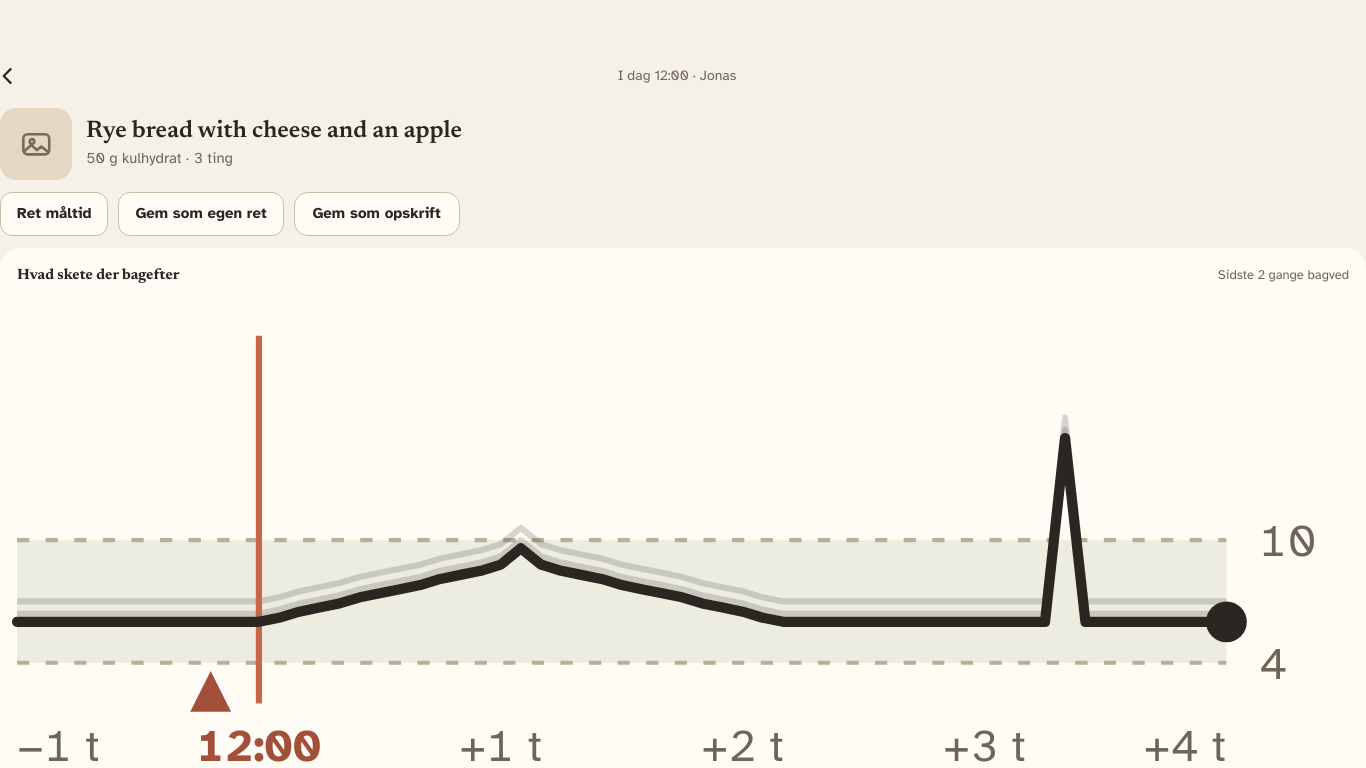
Scenario: edit and delete inside meal detail › retries reading a saved edit without writing it twice
The width and height of the screenshot is (1366, 768).
Click the button "Ret måltid". click: [54, 214]
box: [0,192,108,236]
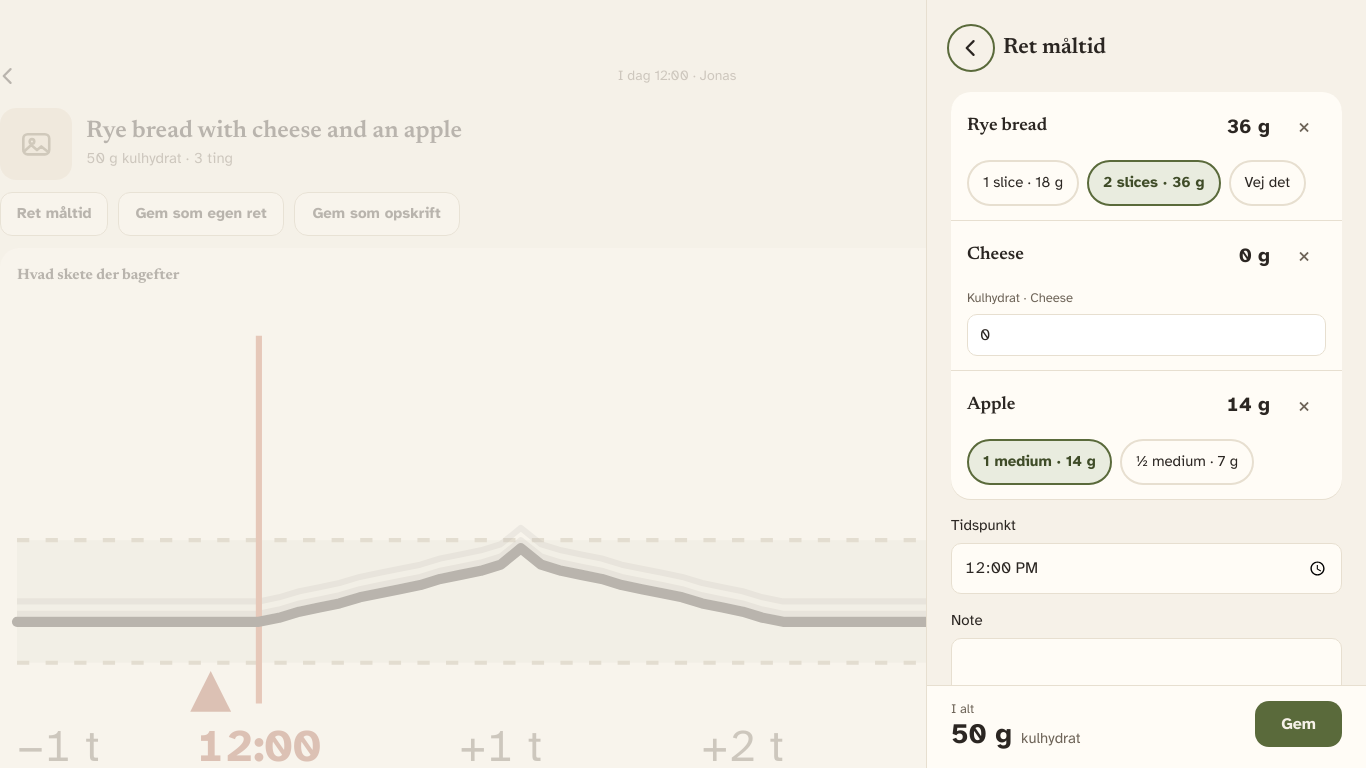
Click the button "Gem". click: [1299, 724]
box: [1255,701,1342,747]
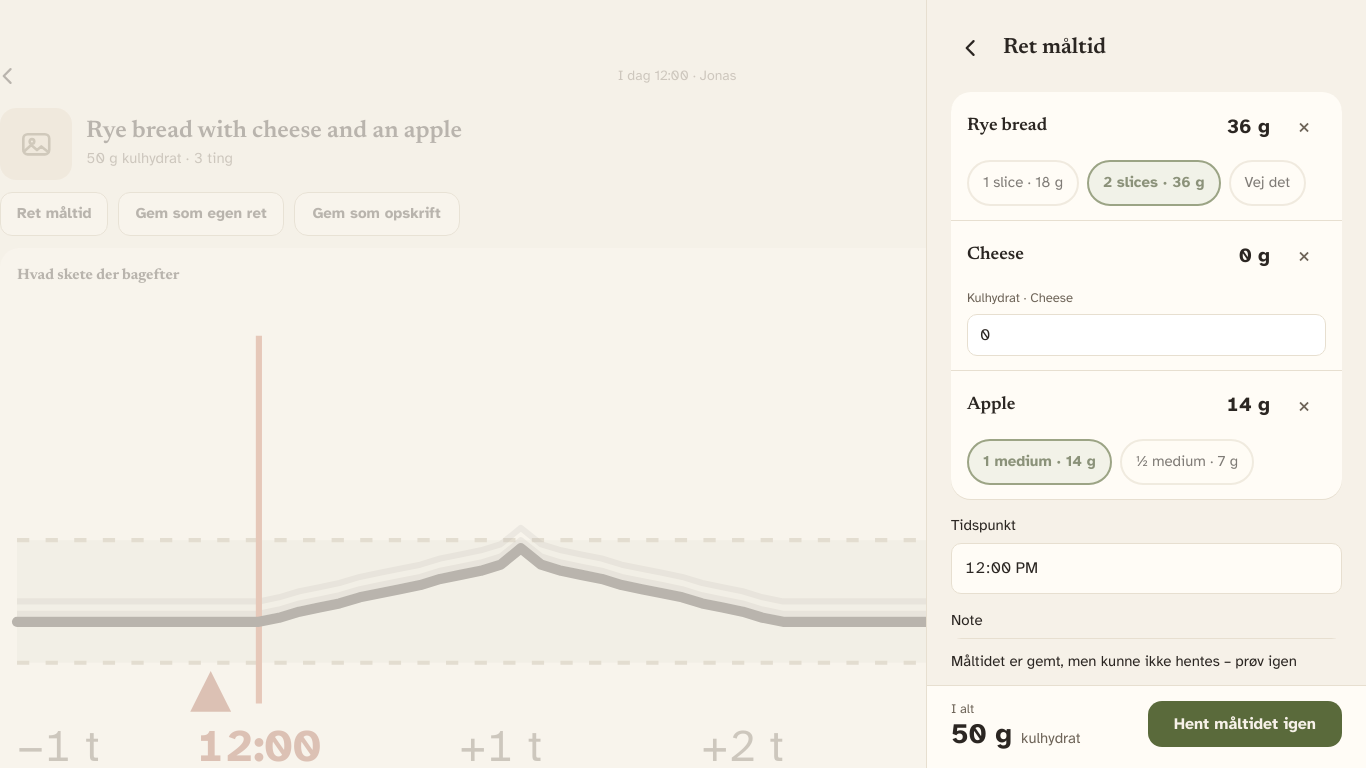
Result: the message reads "Måltidet er gemt, men kunne ikke hentes – prøv igen" at [951,652,1297,670]
Click the button "Hent måltidet igen". click: [1245, 724]
box: [1148,701,1342,747]
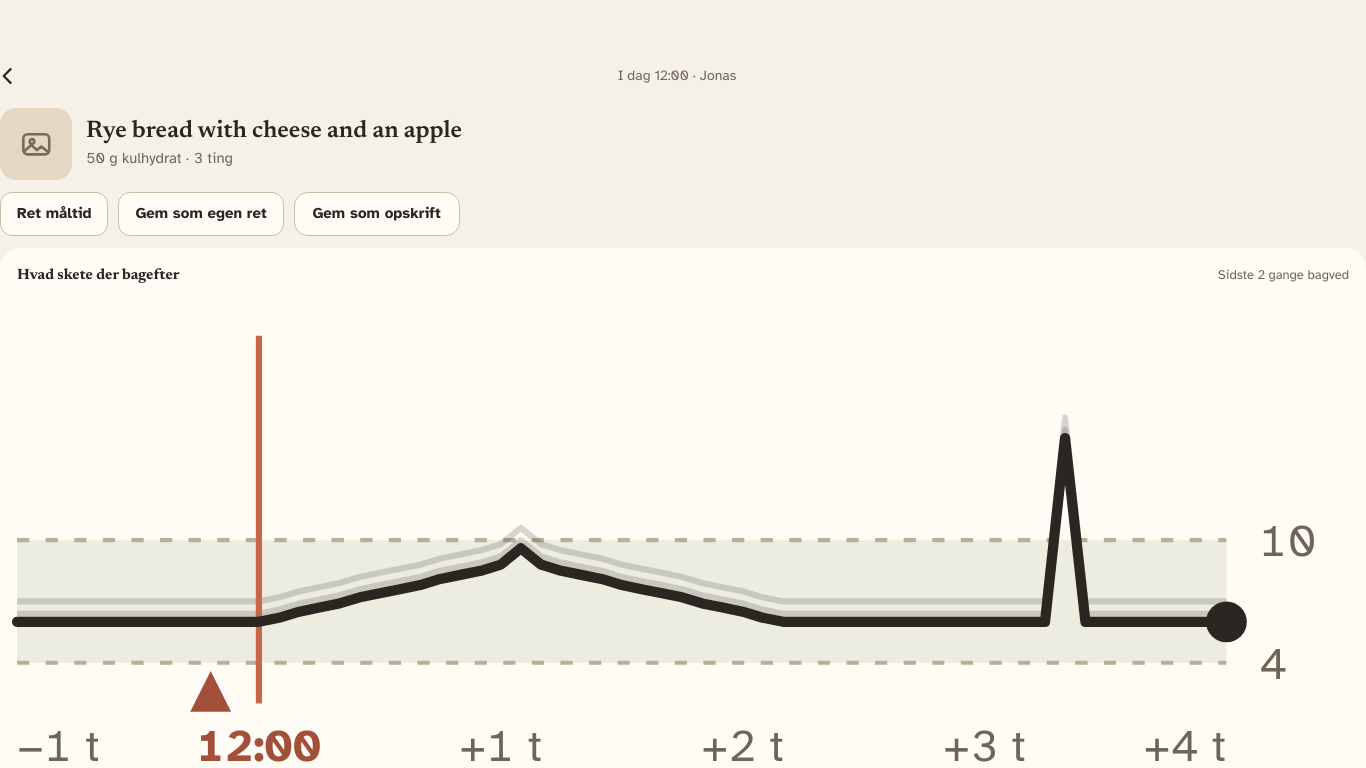
Result: the dialog is gone
